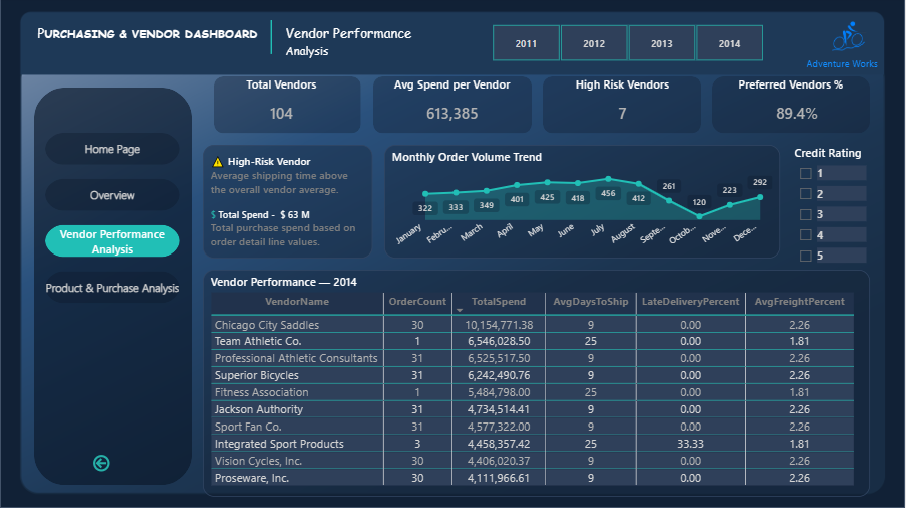

What the dashboard file says about the page in this screenshot:
{"tool":"powerbi","page":{"name":"Vendor Performance Analysis","canvas":[1280,720],"ordinal":2},"visuals":[{"type":"shape","box":[48,128,224,560],"z":0},{"type":"group","id":"g1","title":"Group 2","box":[1136,32,112,80],"z":1000},{"type":"textbox","box":[48,32,336,48],"z":2000},{"type":"shape","box":[304,112,208,80],"z":2000,"group":"g5"},{"type":"shape","box":[368,32,32,48],"z":3000},{"type":"textbox","box":[400,32,208,64],"z":4000},{"type":"cardVisual","title":"Total Vendors","fields":{"Data":["MeasureGroup.Total Vendores"]},"box":[320,112,160,80],"z":5000,"group":"g5"},{"type":"textbox","box":[288,208,240,160],"z":5000},{"type":"image","box":[1168,32,64,48],"z":7000,"group":"g1"},{"type":"tableEx","title":"Vendor Performance — 2014","fields":{"Values":["SP_VendorPerformanceReport.VendorName","SP_VendorPerformanceReport.OrderCount","SP_VendorPerformanceReport.TotalSpend","SP_VendorPerformanceReport.AvgDaysToShip","SP_VendorPerformanceReport.LateDeliveryPercent","SP_VendorPerformanceReport.AvgFreightPercent"]},"box":[288,384,944,320],"z":7000},{"type":"slicer","fields":{"Values":["Purchasing vw_Dim_Date.Year"]},"box":[672,32,432,64],"z":8000},{"type":"textbox","box":[1136,80,112,32],"z":8000,"group":"g1"},{"type":"slicer","title":" Credit Rating","fields":{"Values":["Purchasing vw_Dim_Vendor.CreditRating"]},"box":[1120,208,112,176],"z":9000},{"type":"shape","box":[528,112,224,80],"z":10000,"group":"g4"},{"type":"lineChart","title":"Monthly Order Volume Trend","fields":{"Category":["Purchasing vw_Dim_Date.MonthName"],"Y":["MeasureGroup.Total Orders"]},"box":[544,208,560,160],"z":10000},{"type":"shape","box":[1008,112,224,80],"z":11000,"group":"g2"},{"type":"pageNavigator","box":[64,192,192,240],"z":11000},{"type":"actionButton","box":[128,640,32,32],"z":12000},{"type":"shape","box":[768,112,224,80],"z":13000,"group":"g3"},{"type":"group","id":"g2","title":"Group 1","box":[1008,112,224,80],"z":13000},{"type":"cardVisual","title":"Avg Spend per Vendor","fields":{"Data":["MeasureGroup.Avg Spend per Vendor"]},"box":[544,112,192,80],"z":14000,"group":"g4"},{"type":"group","id":"g3","title":"Group 3","box":[768,112,224,80],"z":14000},{"type":"group","id":"g4","title":"Group 4","box":[528,112,224,80],"z":15000},{"type":"cardVisual","title":"High Risk Vendors","fields":{"Data":["MeasureGroup.High Risk Vendors"]},"box":[800,112,160,80],"z":15000,"group":"g3"},{"type":"group","id":"g5","title":"Group 5","box":[304,112,208,80],"z":16000},{"type":"cardVisual","title":"Preferred Vendors %","fields":{"Data":["MeasureGroup.Preferred Vendors %"]},"box":[1040,112,176,80],"z":17000,"group":"g2"}]}

Visuals, with their boxes in screenshot pixels (x1, y1, x2, y2), scaled from the page's 1280x720 canvas onto the 906x508 screenshot:
shape: 34 90 193 485
"Group 2" group: 804 23 883 79
textbox: 34 23 272 56
shape: 215 79 362 135
shape: 260 23 283 56
textbox: 283 23 430 68
"Total Vendors" cardVisual: 226 79 340 135
textbox: 204 147 374 260
image: 827 23 872 56
"Vendor Performance — 2014" tableEx: 204 271 872 497
slicer - Purchasing vw_Dim_Date.Year: 476 23 781 68
textbox: 804 56 883 79
" Credit Rating" slicer: 793 147 872 271
shape: 374 79 532 135
"Monthly Order Volume Trend" lineChart: 385 147 781 260
shape: 713 79 872 135
pageNavigator: 45 135 181 305
actionButton: 91 452 113 474
shape: 544 79 702 135
"Group 1" group: 713 79 872 135
"Avg Spend per Vendor" cardVisual: 385 79 521 135
"Group 3" group: 544 79 702 135
"Group 4" group: 374 79 532 135
"High Risk Vendors" cardVisual: 566 79 680 135
"Group 5" group: 215 79 362 135
"Preferred Vendors %" cardVisual: 736 79 861 135
